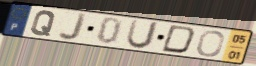0: (96, 17, 124, 46)
D: (159, 24, 198, 55)
J: (57, 11, 89, 42)
O: (195, 29, 226, 58)
Q: (29, 9, 58, 38)
U: (124, 18, 162, 51)
